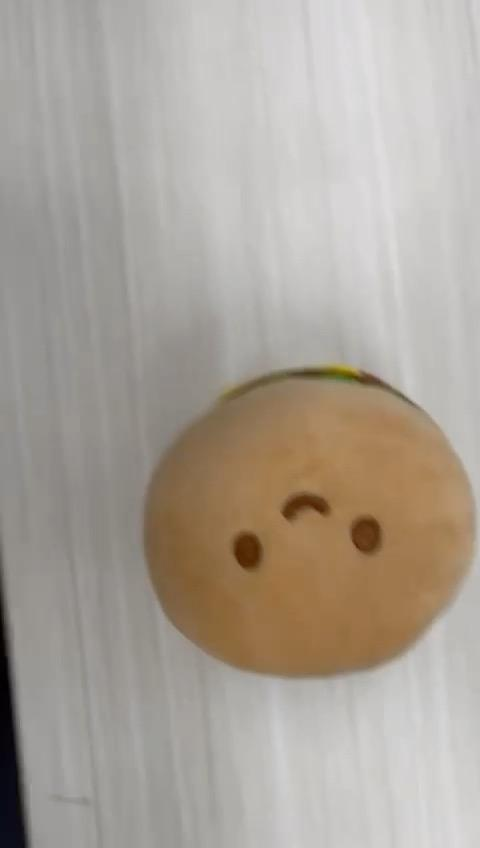hamburger: (146, 363, 474, 679)
